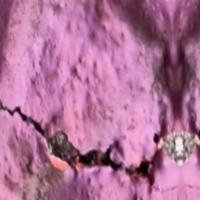crack: (0, 80, 196, 199)
